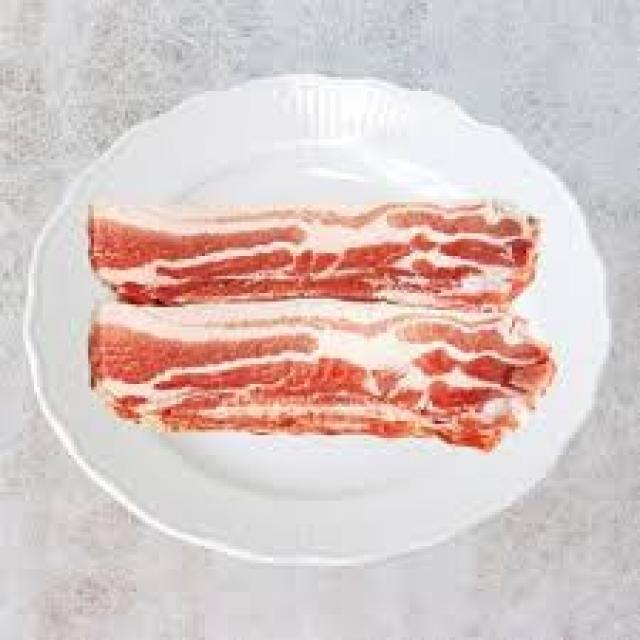Pork: (91, 302, 558, 451), (91, 205, 536, 309)
